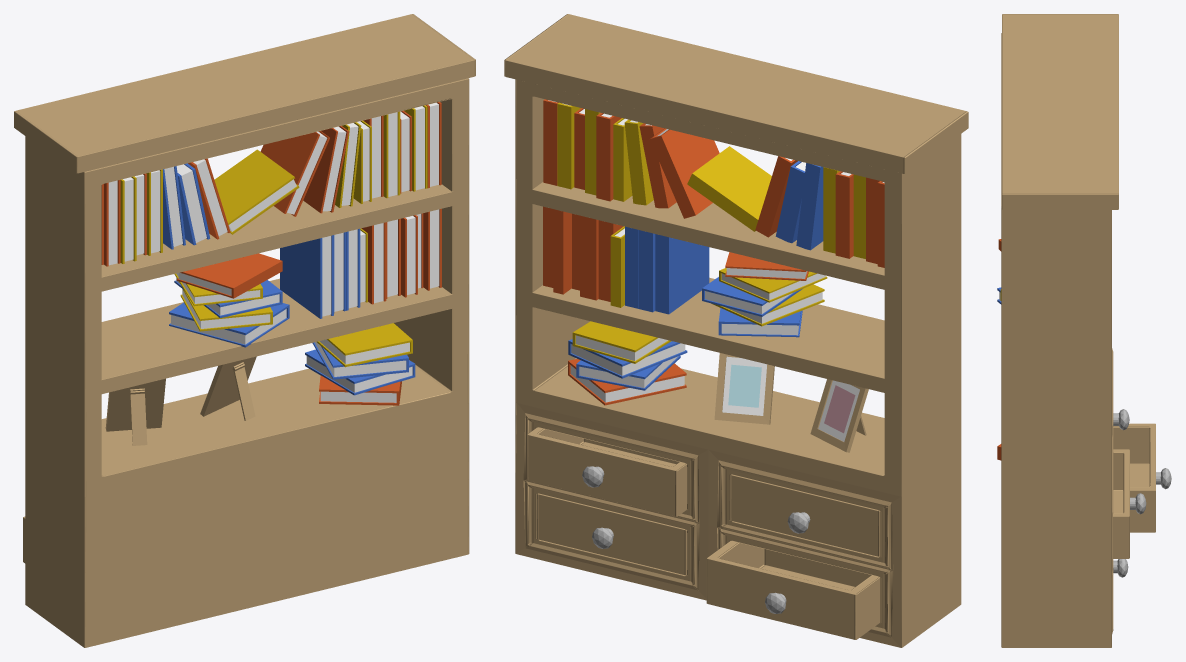
File: bookshelf.glb
3 views of the same model, side by side, from view 1: azimuth 30°, elevation 25°; view 2: azimuth 150°, elevation 25°; view 3: azimuth 270°, elevation 25° (orthographic). The views are drawn at different scales.
Visible parts, largest first — view 1: Bookshelf, Book.001, Book.002, Book, Book.003, Photo frame.001, Photo frame; view 2: Bookshelf, Book.001, Book.002, Book, Book.003, Photo frame, Photo frame.001; view 3: Bookshelf.
Boxes of the visible parts, x1,y1,x2,y2 form: Bookshelf: [14, 14, 475, 647]; Book.001: [101, 102, 441, 266]; Book.002: [280, 208, 441, 318]; Book: [169, 253, 289, 347]; Book.003: [305, 323, 415, 405]; Photo frame.001: [105, 378, 165, 445]; Photo frame: [200, 356, 256, 420]; Bookshelf: [504, 14, 968, 647]; Book.001: [543, 99, 884, 267]; Book.002: [543, 206, 709, 314]; Book: [702, 252, 827, 337]; Book.003: [568, 321, 687, 405]; Photo frame: [714, 353, 774, 424]; Photo frame.001: [810, 379, 868, 452]; Bookshelf: [1001, 14, 1171, 647].
Size of the model in its own units: 2.65 by 3.13 by 1.08.
